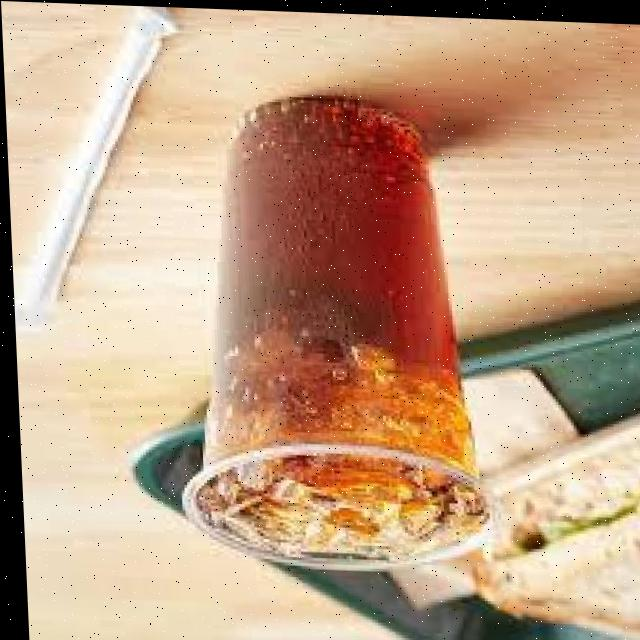cup: (166, 61, 504, 607)
